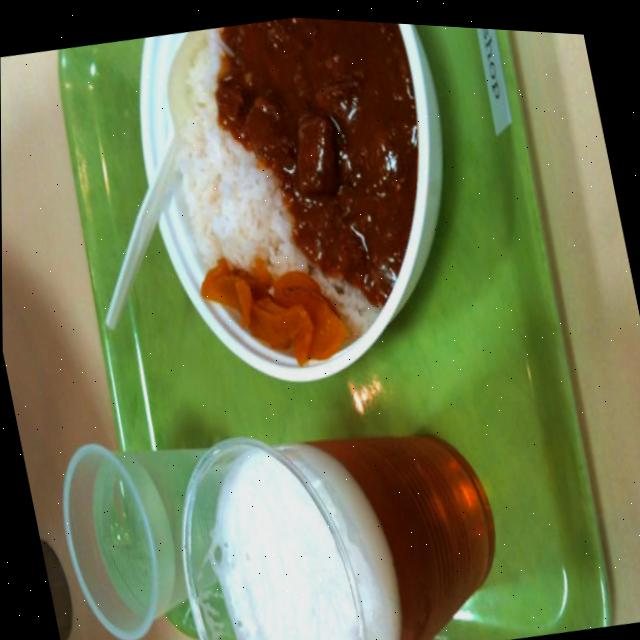牛肉菜式: (115, 5, 470, 388)
